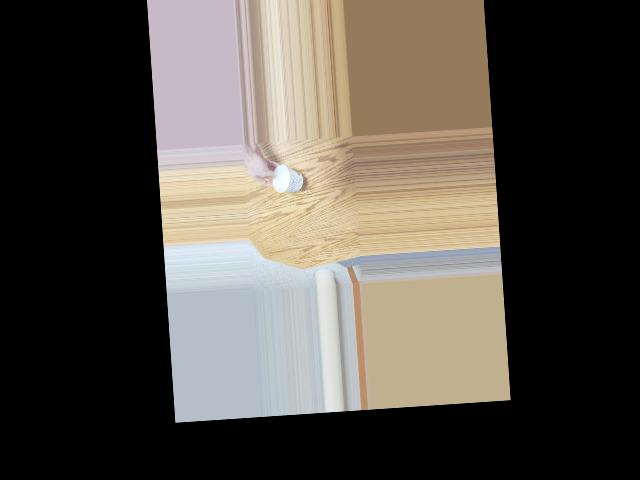cotage: (268, 158, 304, 193)
